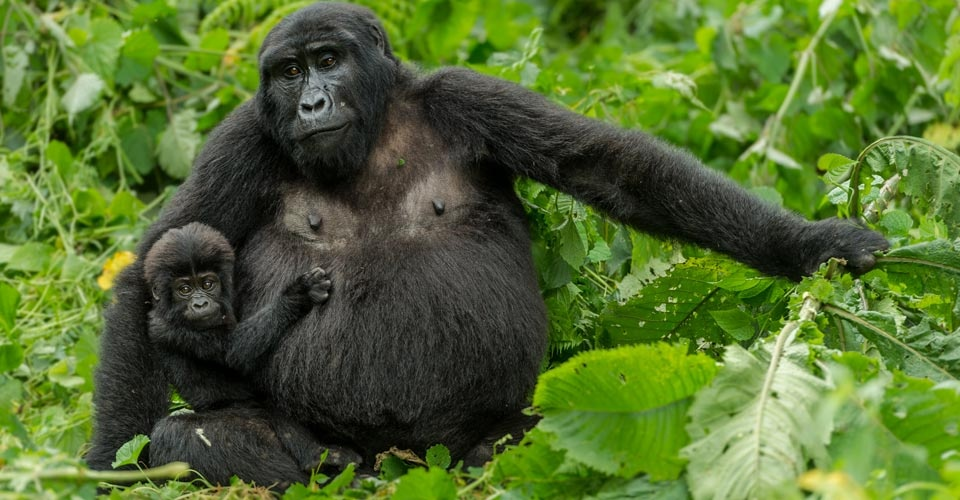Goriila: (228, 17, 750, 458), (130, 221, 346, 458)
